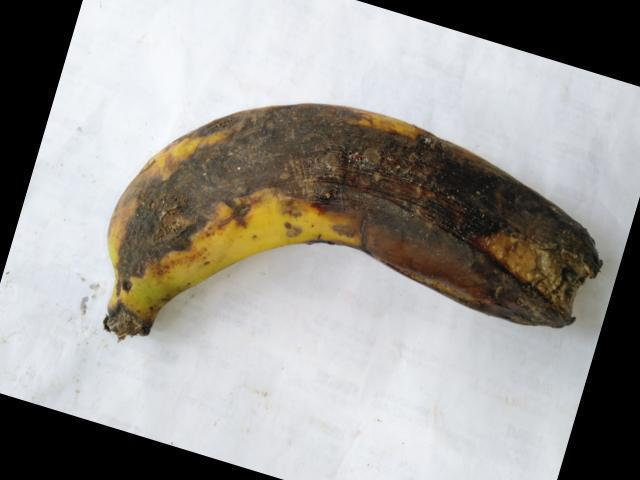rotten: (92, 58, 608, 350)
